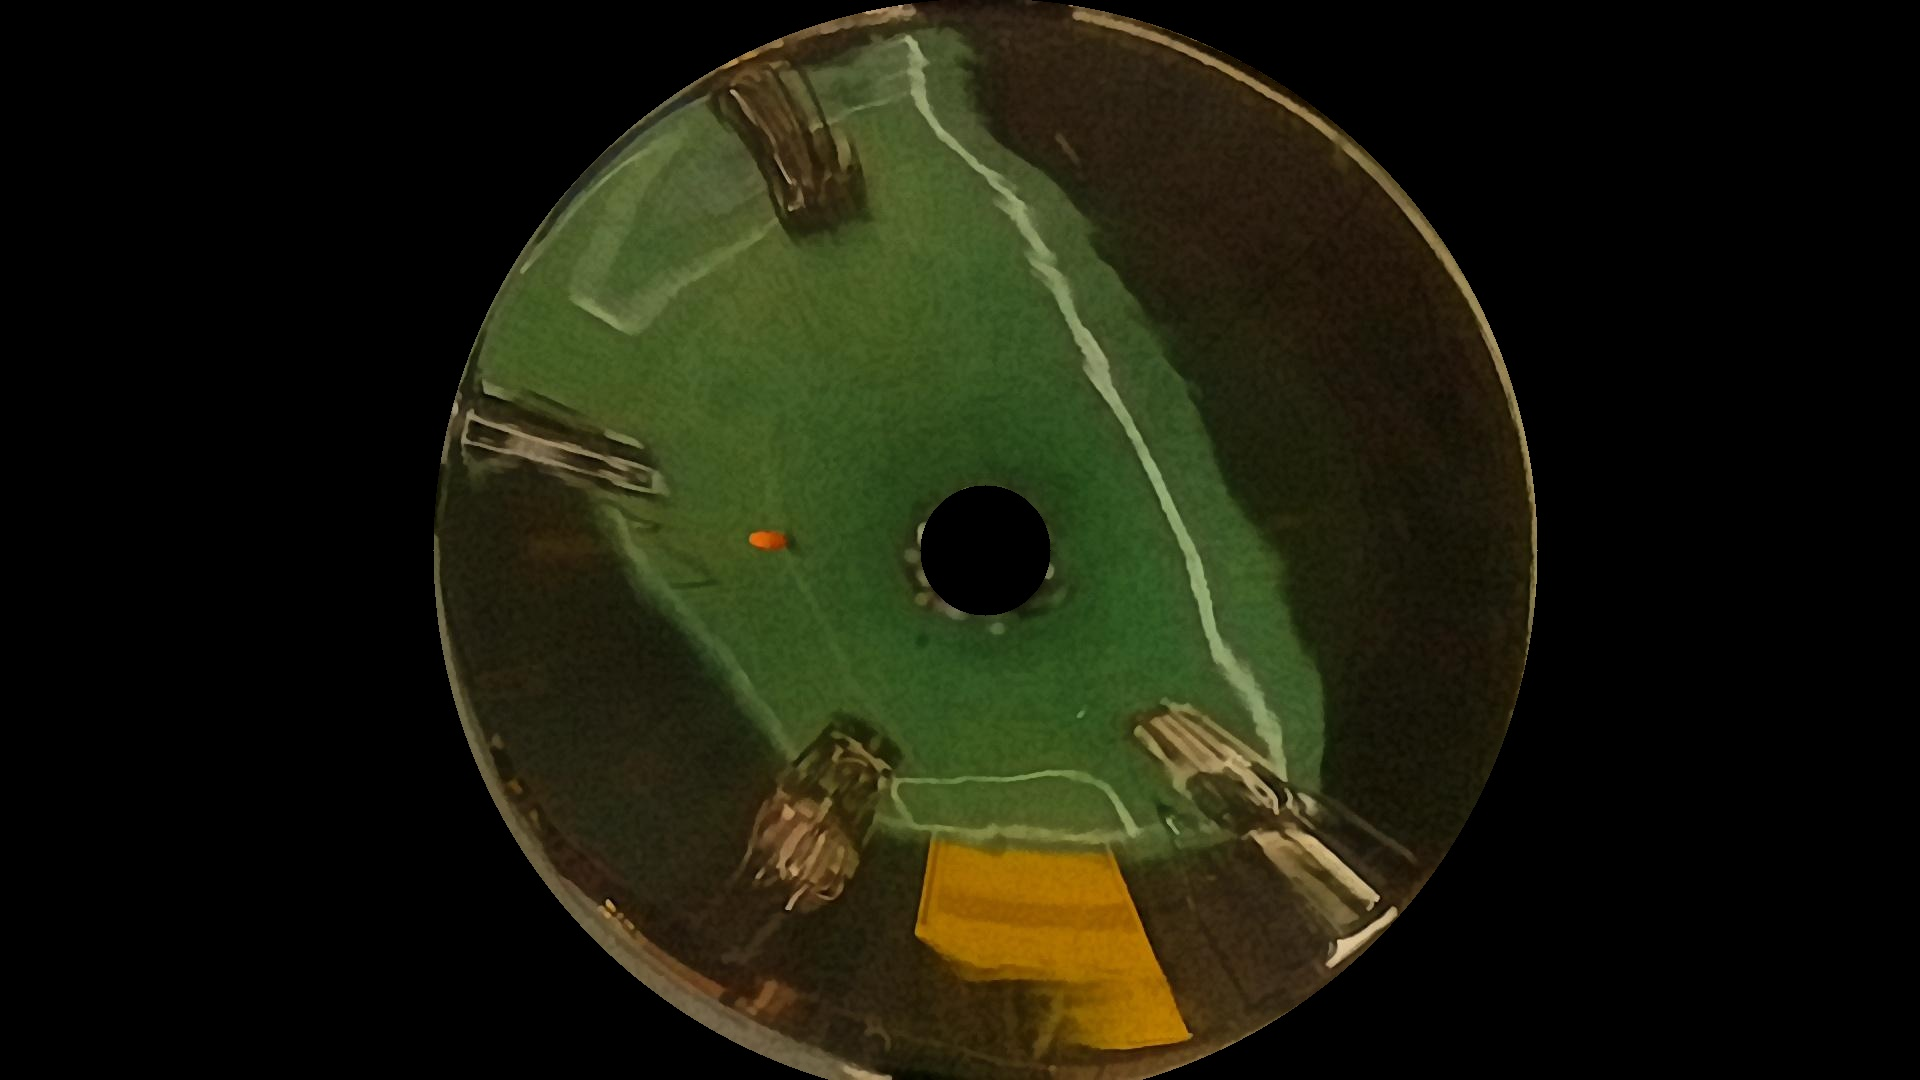ball: (744, 514, 789, 562)
robots: (1142, 694, 1402, 960), (713, 728, 887, 948), (450, 376, 673, 506), (712, 62, 866, 232)
yellow-goal: (932, 833, 1188, 1046)
